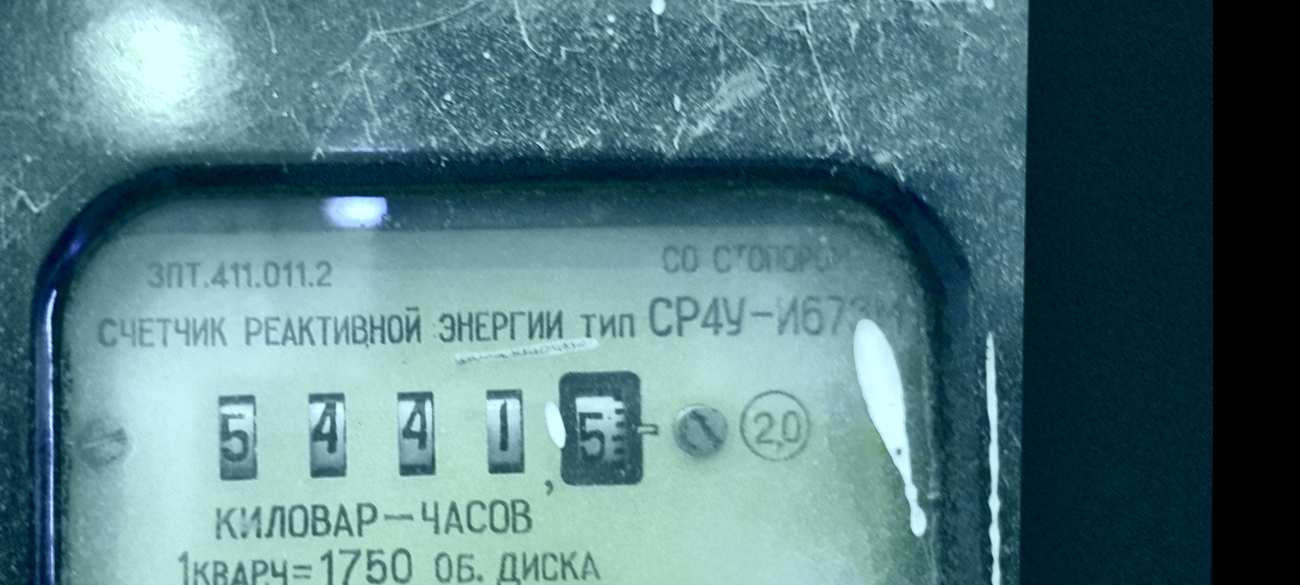1: (489, 397, 514, 456)
4: (395, 392, 432, 458), (306, 396, 342, 458)
5: (573, 405, 609, 468), (214, 409, 253, 466)
screen: (191, 343, 667, 515)
